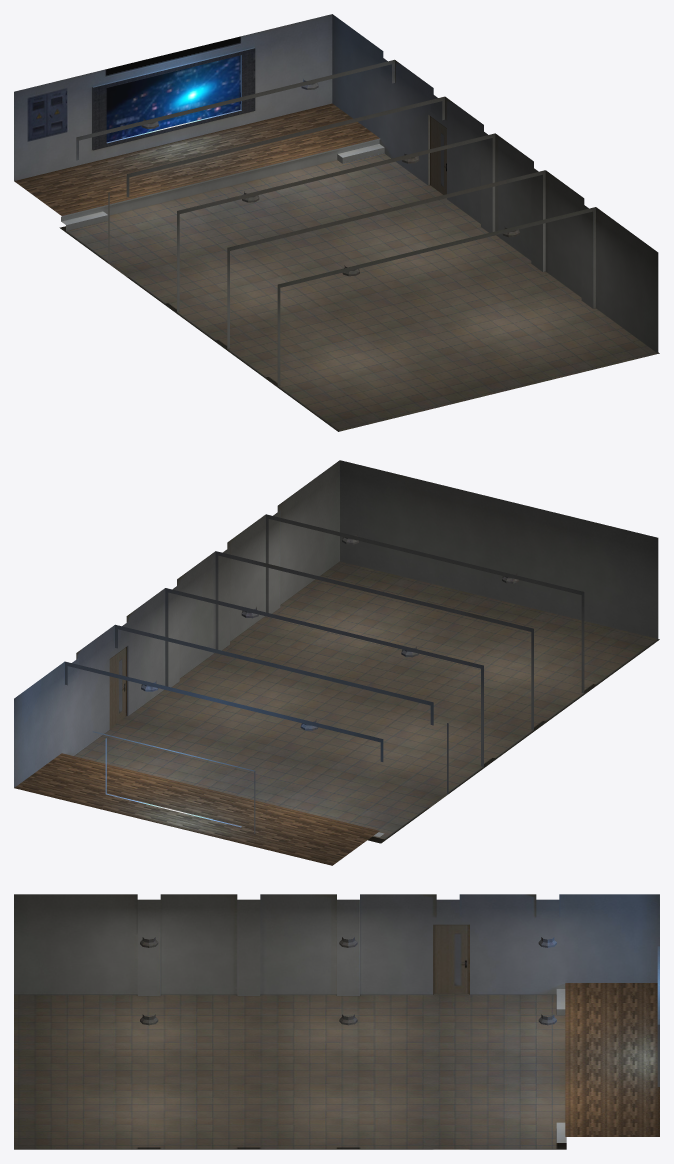
Rendered from conference.glb.
3 renders of one model, top to bottom at view 1: azimuth 30°, elevation 25°; view 2: azimuth 150°, elevation 25°; view 3: azimuth 270°, elevation 25°, orthographic.
Visible parts, largest first — view 1: Object_2; view 2: Object_2; view 3: Object_2.
Part boxes in pixels (x1,y1,x2,y2): Object_2: (14, 14, 659, 431); Object_2: (14, 460, 659, 865); Object_2: (14, 894, 659, 1149).
Size of the model in its own units: 10.13 by 3.28 by 17.78.
Materials: 1 (1 with a texture image).
